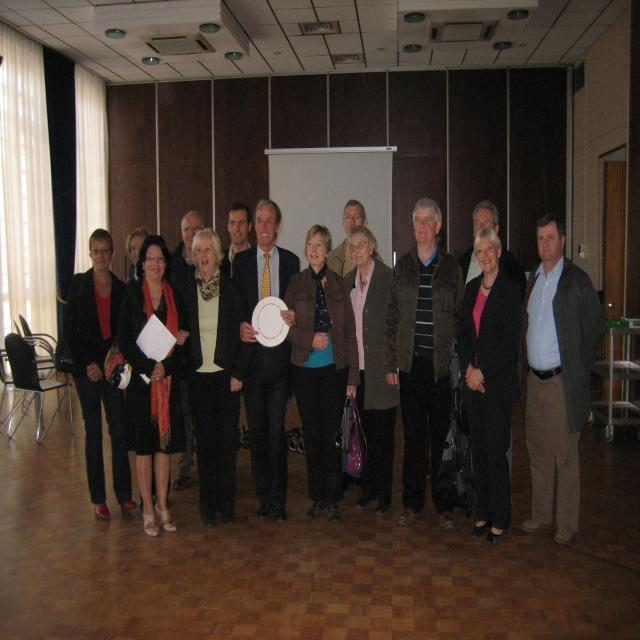body: (514, 208, 610, 548), (382, 196, 468, 532), (101, 231, 185, 541), (454, 223, 530, 548), (229, 196, 302, 526), (281, 223, 361, 523), (68, 228, 140, 523), (458, 199, 530, 481), (178, 228, 245, 530), (339, 223, 401, 516), (123, 225, 177, 509), (169, 209, 205, 491), (324, 198, 385, 280), (219, 199, 254, 278)
